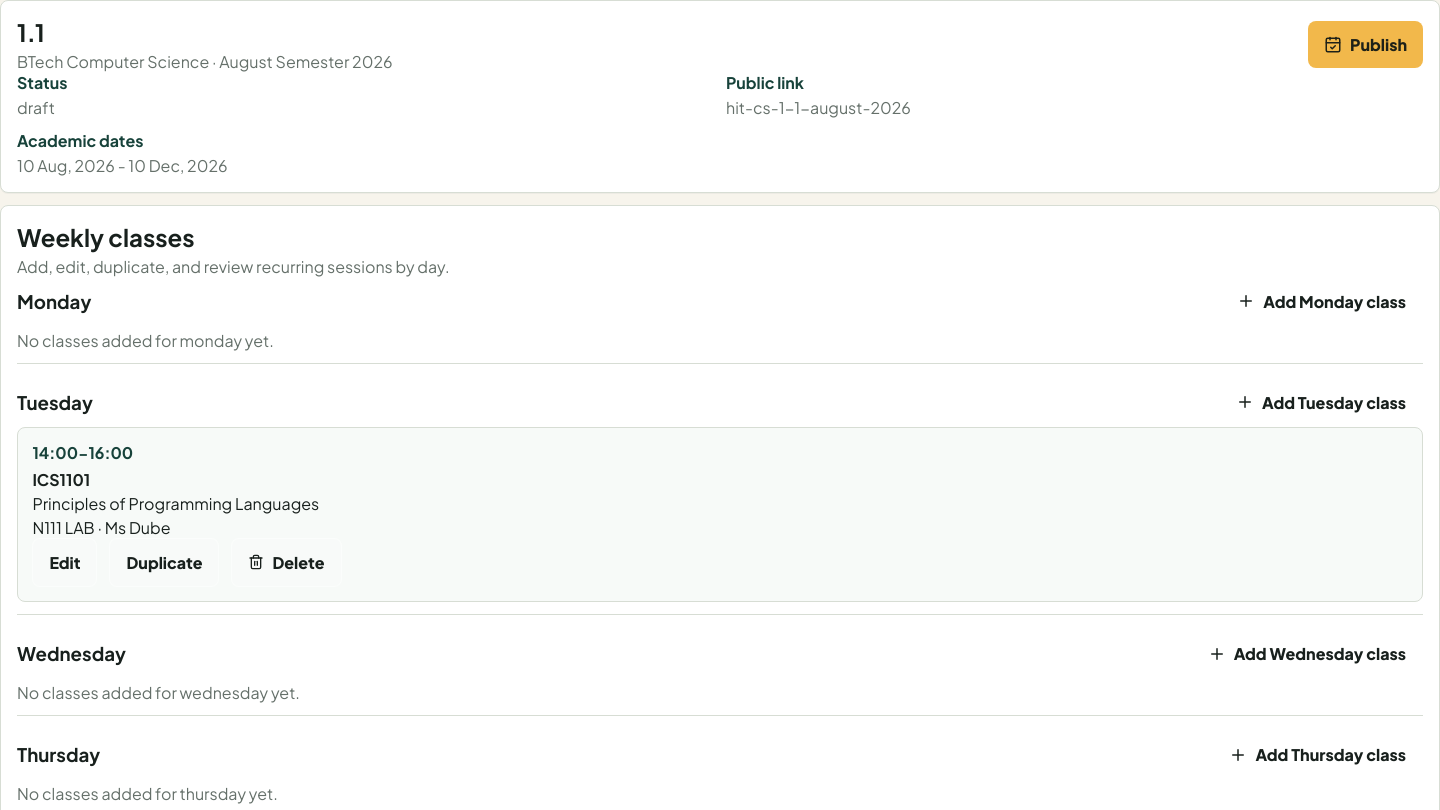
Test: timetable editor manual entry flow › preselects the clicked weekday in the add-class form
The image size is (1440, 810).
Click the button "Add Tuesday class" at (1321, 402), box x1=1219 y1=378 x2=1423 y2=427
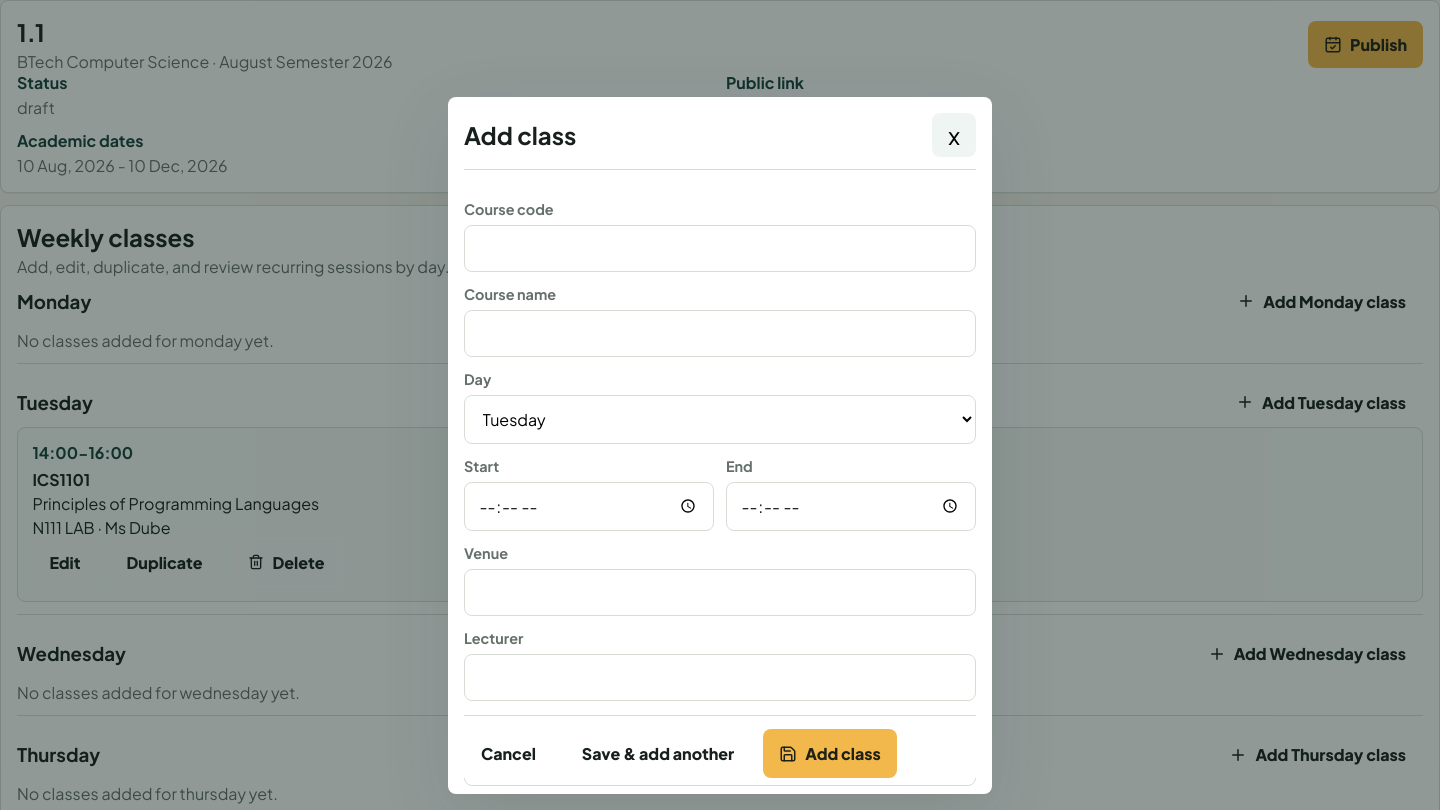
Check: the dropdown labelled "Day" shows "Tuesday", box x1=464 y1=395 x2=976 y2=444
